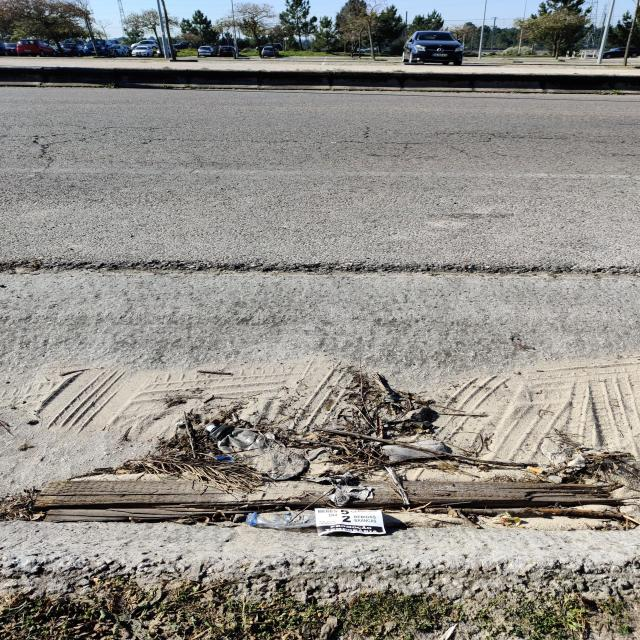litter: (244, 509, 319, 529)
